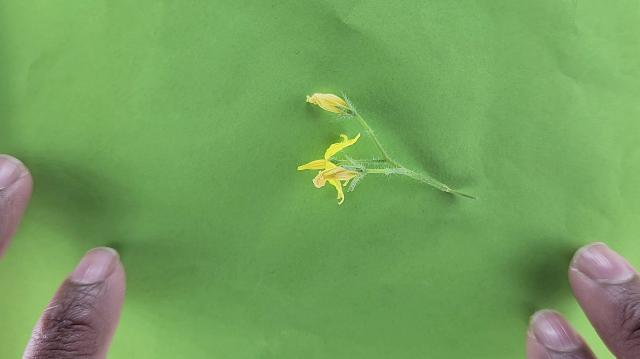Anthesis: (292, 132, 359, 204), (306, 92, 355, 116)
